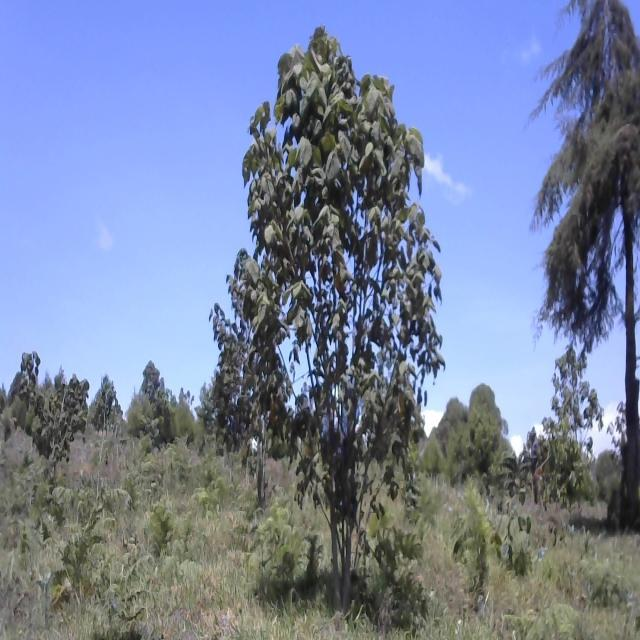Podocarpus falcatus: (462, 469, 490, 604)
cedrus: (531, 2, 640, 352)
other: (238, 20, 448, 618), (202, 236, 271, 460), (6, 355, 95, 490), (542, 327, 606, 482)
